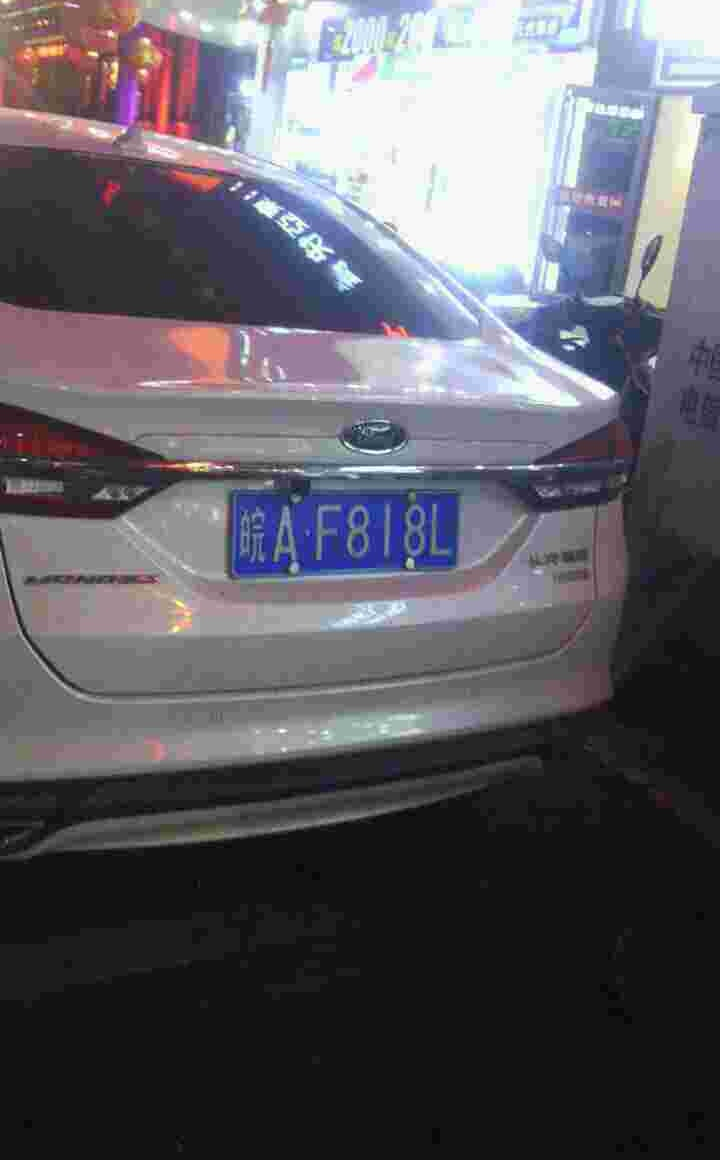license_plate: (233, 498, 454, 582)
